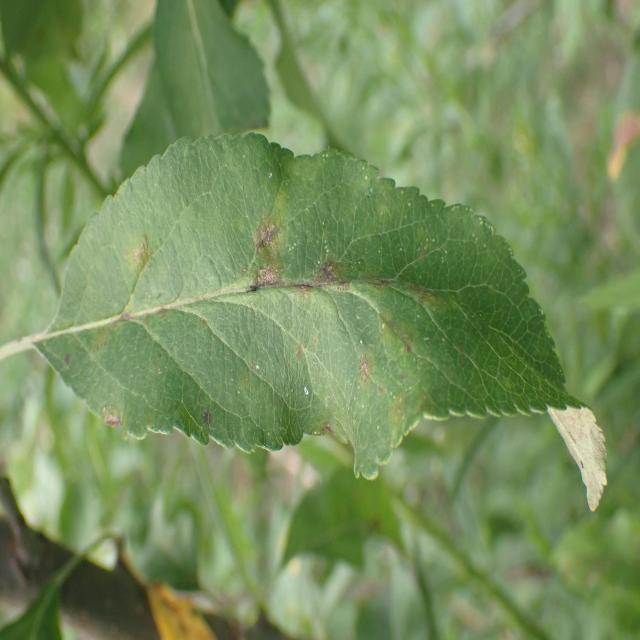scab: (40, 207, 507, 449)
